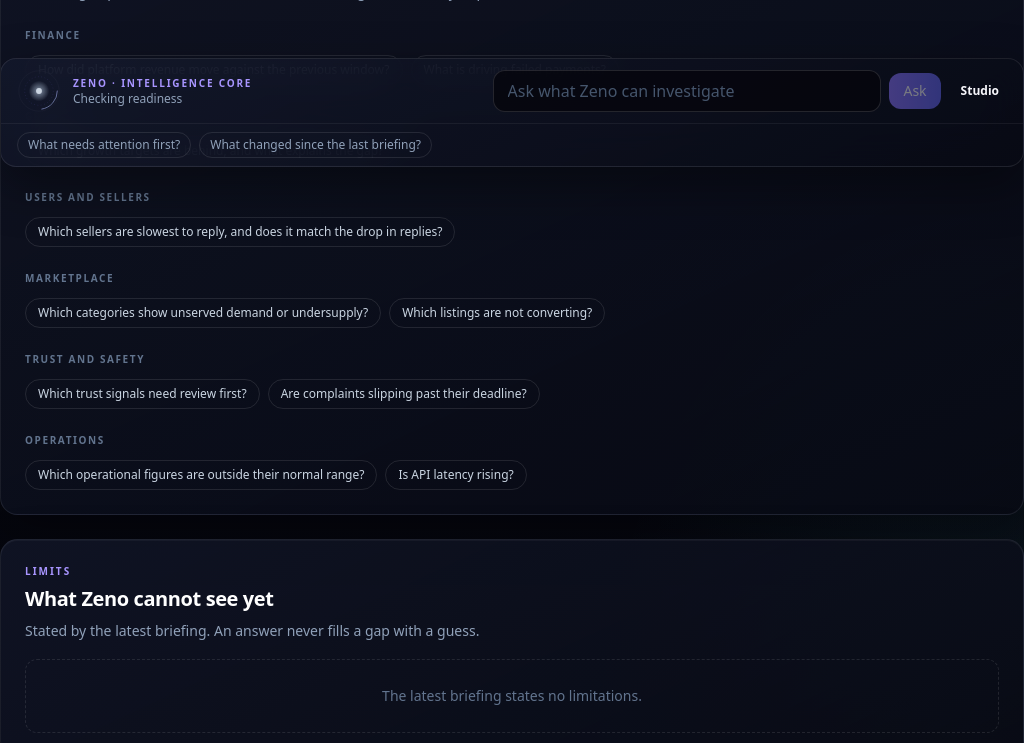
intelligence core › fills the command bar from a suggested investigation without sending it
(page scrolled)
Click the button "Which operational figures are outside their normal range?" at point(201, 475), box [25,460,377,490]
(page scrolled)
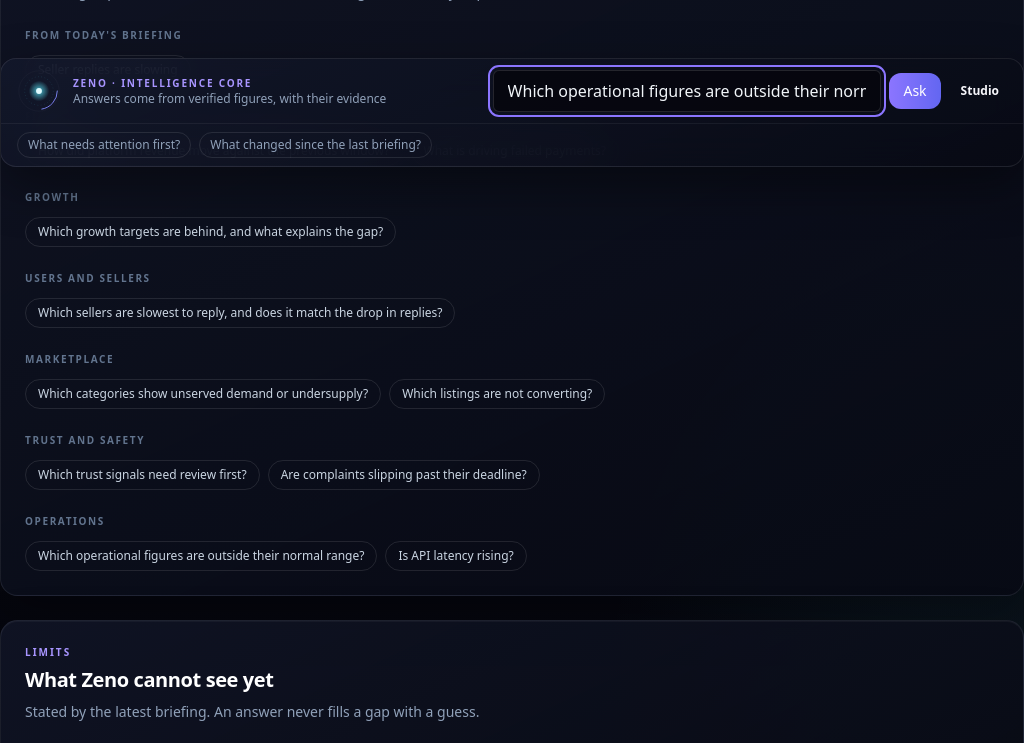
Now the field named "Ask Zeno" holds "Which operational figures are outside their normal range?", box [493,70,882,112]
